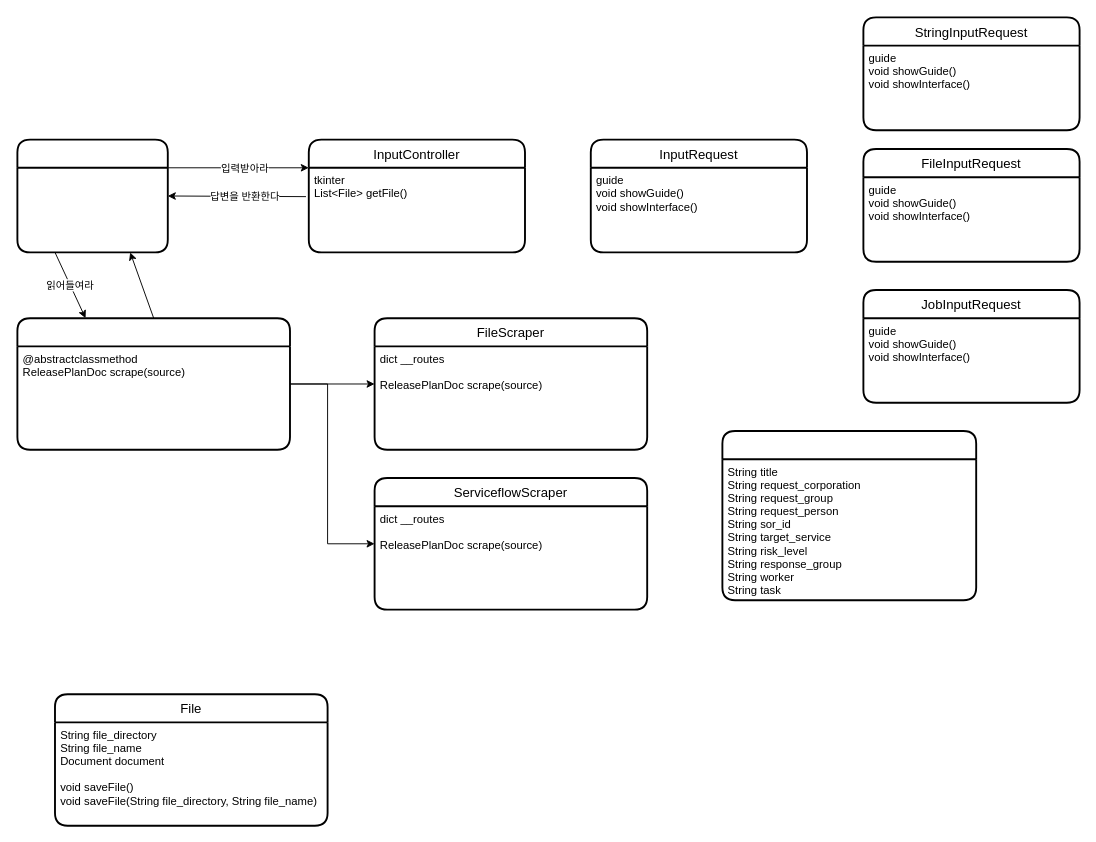
Some shapes in this 1096 by 842 pixel diagram are drawn without their labels. The box of each missing label's shape, as (x1, y1, x2, y2) in pixels:
main: (16, 138, 168, 253)
ReleasePlanDoc: (721, 430, 977, 601)
Scraper: (16, 317, 290, 450)
